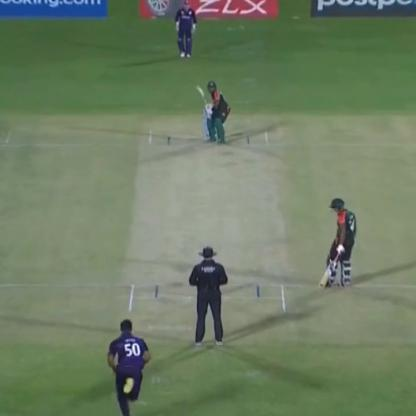pitch: (125, 128, 295, 320)
